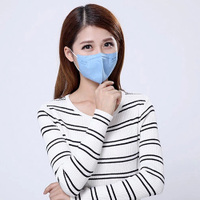face_mask: (77, 26, 117, 84)
